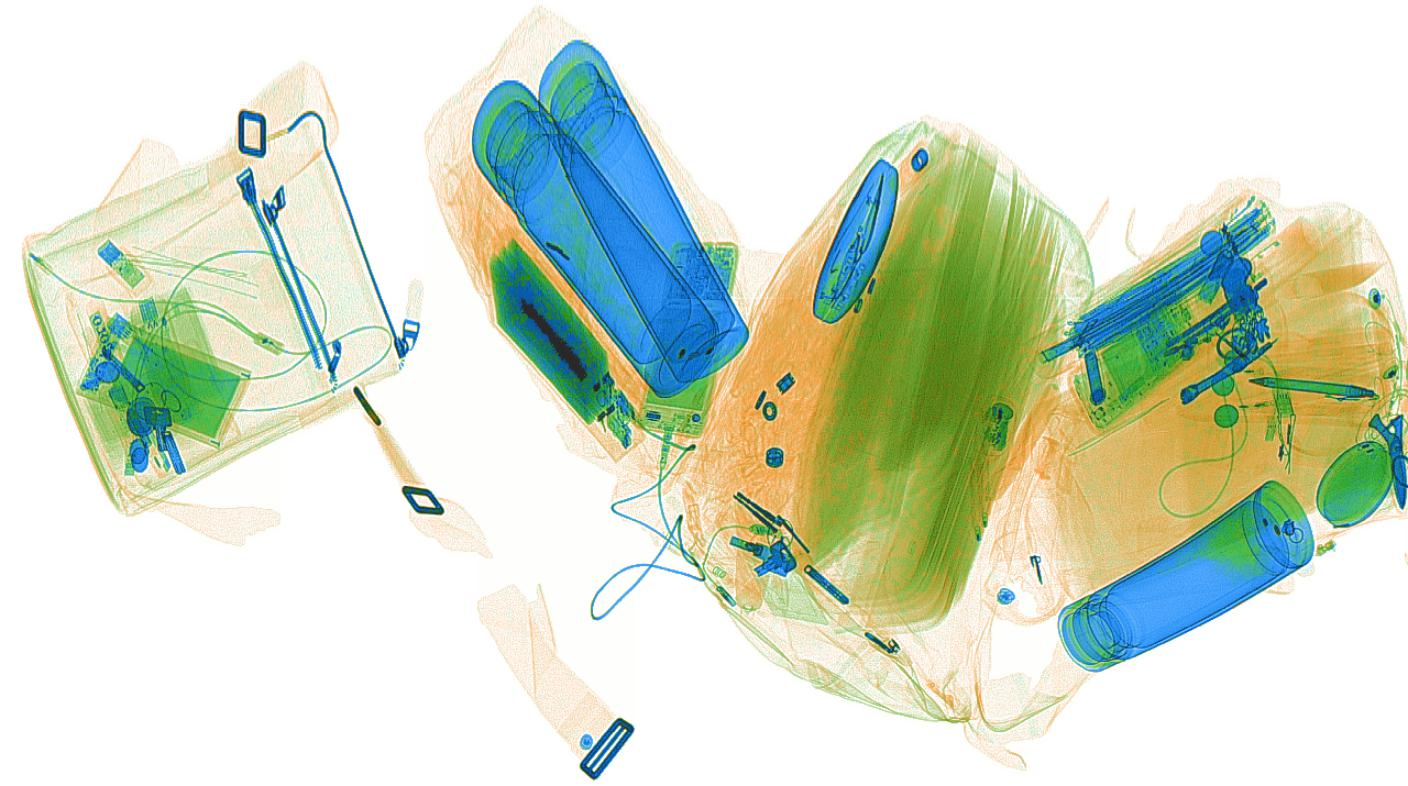USBFlashDisk: (135, 297, 197, 426), (108, 376, 149, 448), (97, 238, 147, 292)
plasticBottleWithaNozzle: (1201, 215, 1328, 304)
scissors: (1331, 302, 1405, 514)
